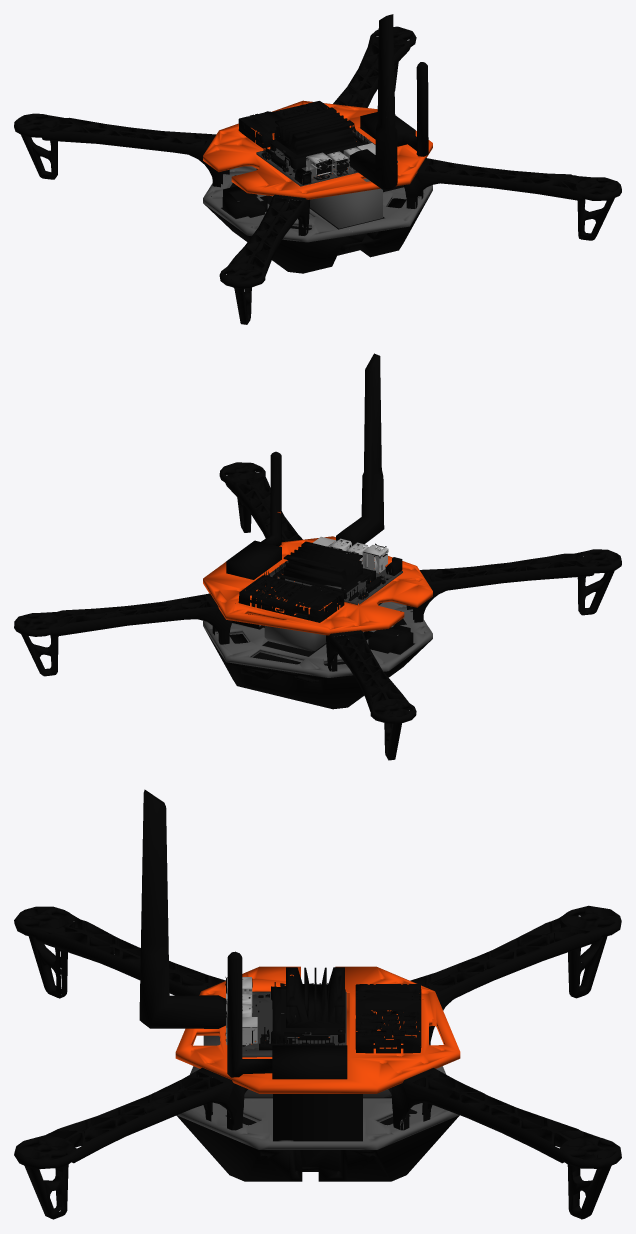
The model's file is wabe.dae.
3 views of the same model, one above another, from view 1: azimuth 30°, elevation 25°; view 2: azimuth 150°, elevation 25°; view 3: azimuth 270°, elevation 25° (orthographic). The views are drawn at different scales.
Visible parts, largest first — view 1: WabeWabe_ZUp; view 2: WabeWabe_ZUp; view 3: WabeWabe_ZUp.
Boxes of the visible parts, <box> form: WabeWabe_ZUp: <box>14,14,621,324</box>; WabeWabe_ZUp: <box>14,353,621,760</box>; WabeWabe_ZUp: <box>14,789,621,1219</box>.
Bounding box in the file's own units: 4.06 × 4.06 × 2.64.
1 material, 1 textured.
